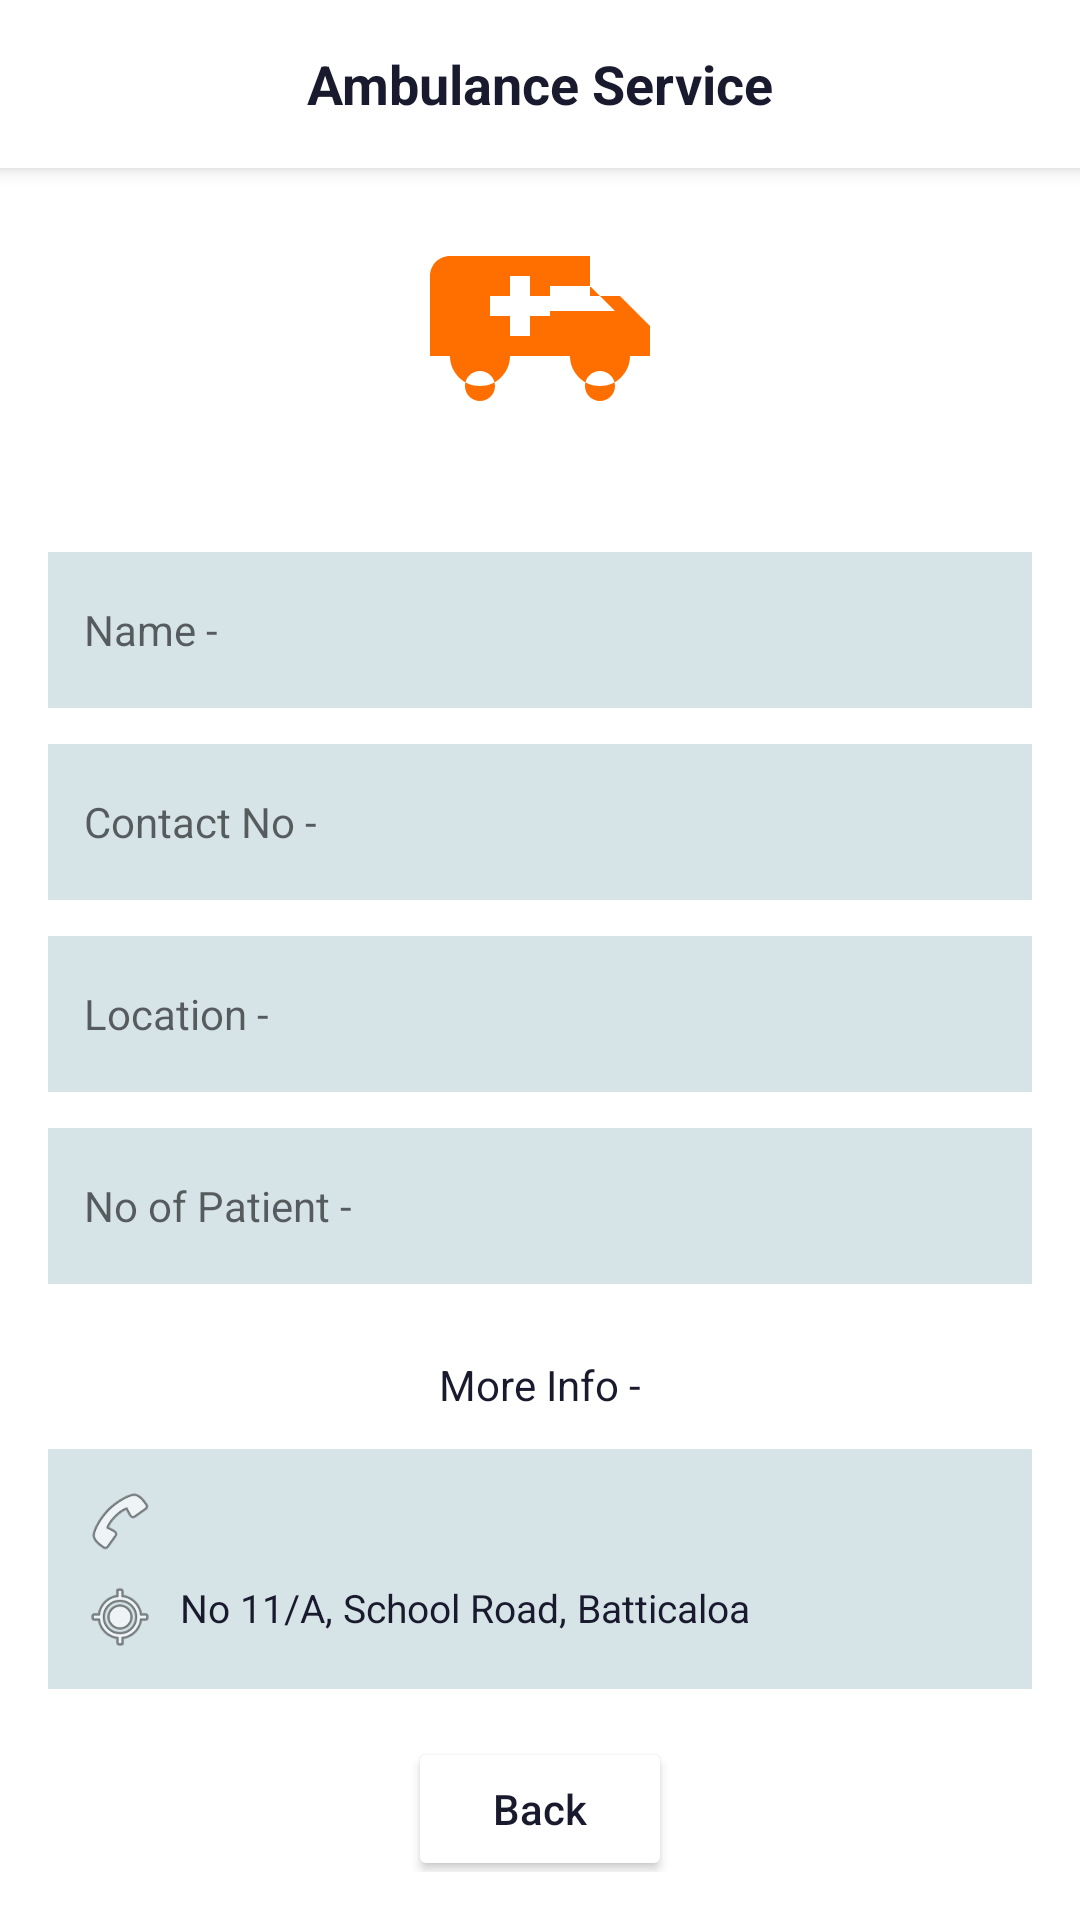

Locate icon controls on the screen. Image size 1080 x 1920, boxes as [x1=x1, y1=y1, x2=x2, y2=y2].
Location: [x1=91, y1=1588, x2=149, y2=1646]
Phone: [x1=92, y1=1493, x2=149, y2=1550]
